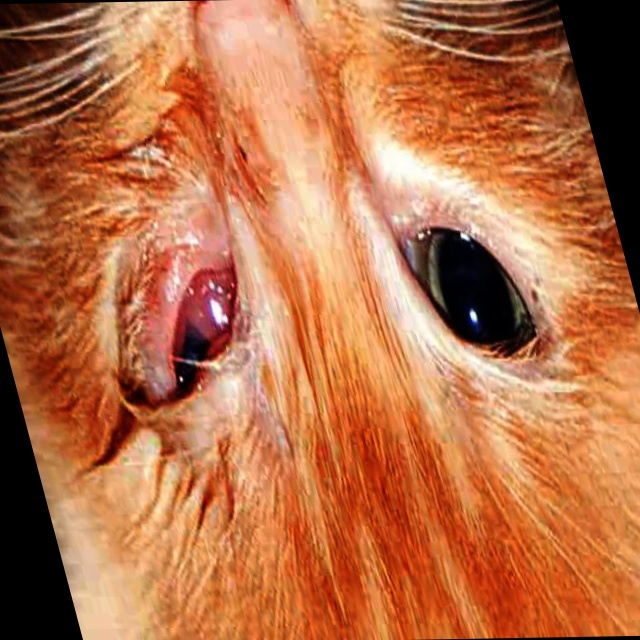eye_infection: (387, 221, 549, 358), (142, 262, 257, 393)
